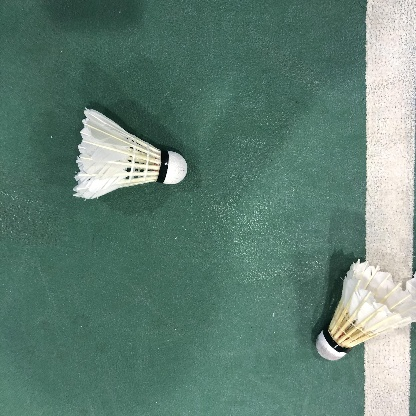ball_single: (73, 107, 187, 199), (316, 258, 416, 361)
